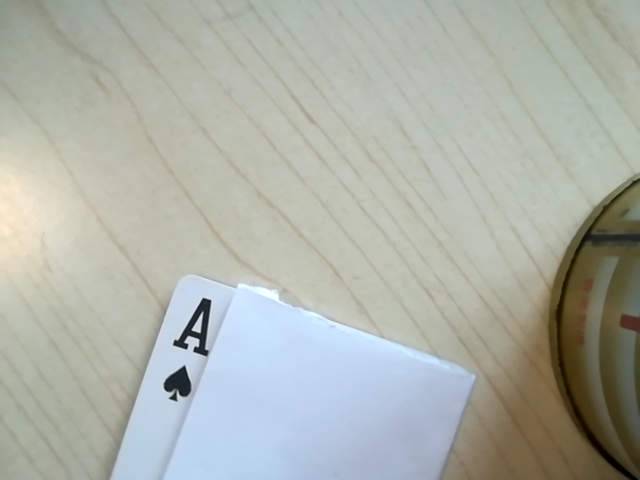ht a: (149, 292, 229, 415)
